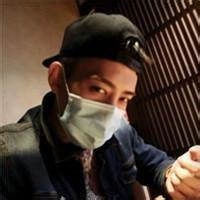OK: (64, 74, 138, 148)
